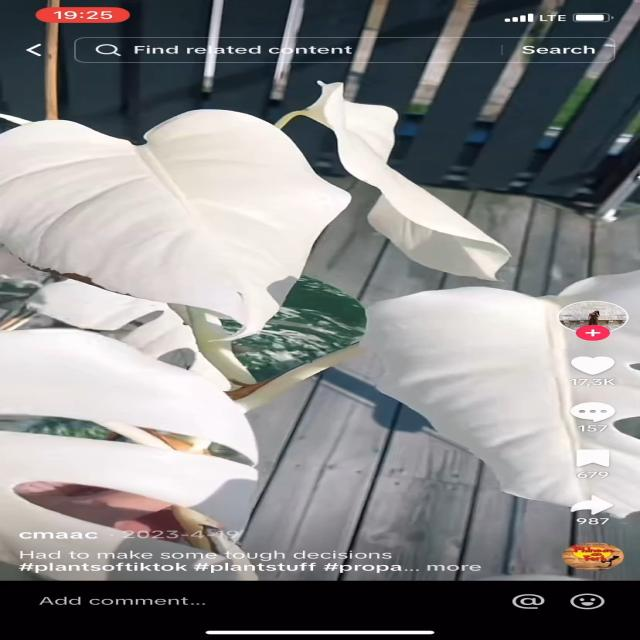lisc_variegata: (0, 79, 519, 343), (322, 273, 640, 518), (0, 281, 267, 571)
roslina_variegata: (0, 77, 640, 579)
